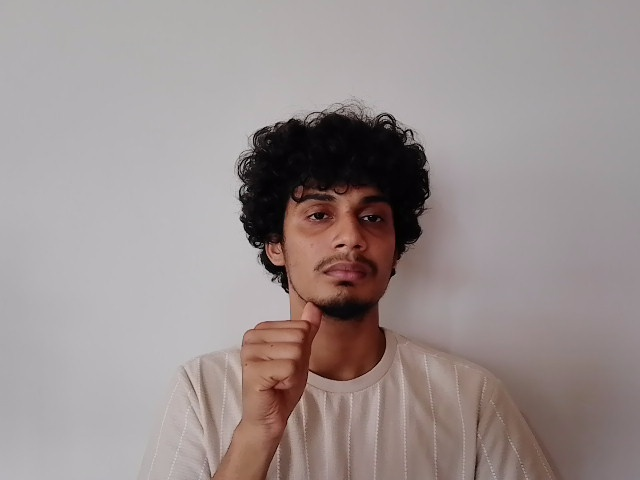not: (239, 292, 391, 415)
